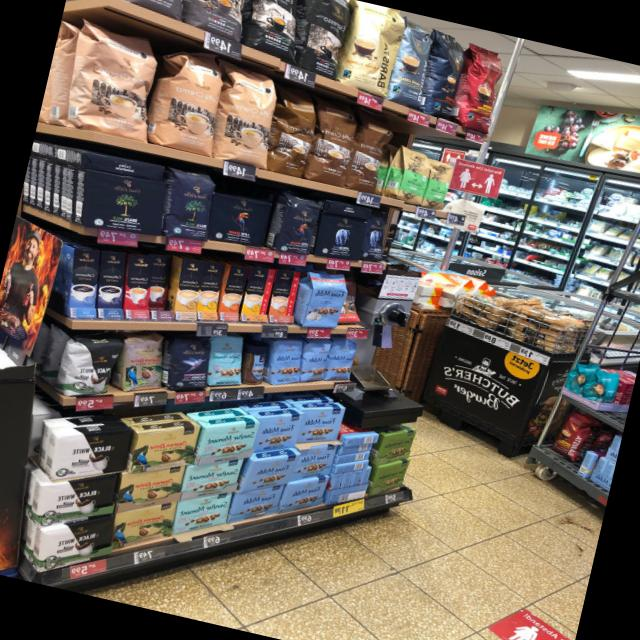AB Bohne: (360, 210, 391, 263)
AB Gemahlen: (311, 213, 369, 261)
Athiopien Gemahlen: (391, 145, 430, 205), (422, 158, 455, 210)
BM Bohne: (160, 164, 219, 242)
BM Gemahlen: (80, 168, 165, 236)
BW Bohne: (64, 335, 122, 397)
BW Gemahlen: (37, 514, 116, 574), (36, 473, 119, 529), (52, 430, 131, 481)
Barista CB: (336, 0, 404, 99)
Barista CC: (386, 16, 434, 111)
Barista Espresso: (419, 30, 469, 122)
Barista Kolumbien: (453, 39, 511, 137)
C Fino Bohne: (166, 335, 208, 392)
CC Mild: (73, 17, 166, 142), (151, 42, 230, 157), (213, 59, 287, 170)
CC Vollmundig 36 Pads: (303, 97, 361, 188), (266, 87, 318, 177), (345, 112, 395, 194)
Colombia BB Bohne: (122, 334, 165, 394)
Colombia BB Gemahlen: (128, 424, 200, 475), (111, 501, 179, 552), (115, 465, 186, 513)
FM 36 Pads: (299, 268, 352, 329)
FM Bohne: (298, 339, 334, 384), (324, 338, 360, 381), (271, 339, 303, 386)
FM Gemahlen: (237, 453, 301, 495), (227, 485, 285, 525), (250, 412, 305, 453), (277, 475, 329, 515), (289, 443, 338, 481)
FM Instant: (243, 343, 271, 385)
Herzhatfe Mundig: (369, 460, 411, 498), (376, 429, 417, 467)
LG Bohne: (268, 191, 321, 256)
LG Gemahlen: (206, 191, 275, 248)
SM Bohne: (206, 337, 244, 386)
SM Gemahlen: (195, 419, 260, 468), (179, 459, 242, 501), (172, 494, 232, 535)
Simo CCMild: (239, 267, 276, 321)
Simo CCMild bigpack: (197, 261, 224, 319)
Simo CCVollmundig: (266, 269, 299, 323)
Simo CCVollmundig bigpack: (218, 264, 248, 320)
Simo Decaff: (174, 258, 203, 320)
Simo Es Brazil: (124, 253, 151, 320)
Simo Es Kraft: (98, 251, 126, 317)
Simo Es Vanilla: (69, 248, 100, 317)
